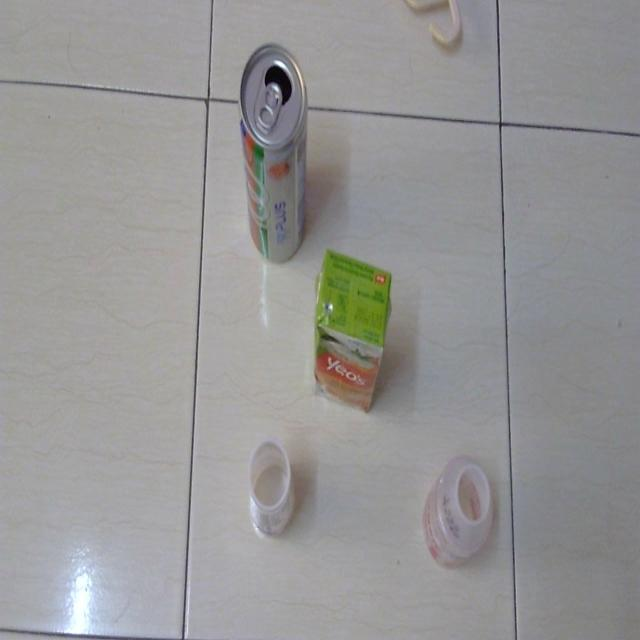metal_standrotation: (233, 37, 314, 269)
plastic_standrotation: (310, 243, 392, 422), (419, 439, 498, 578), (240, 435, 301, 543)
